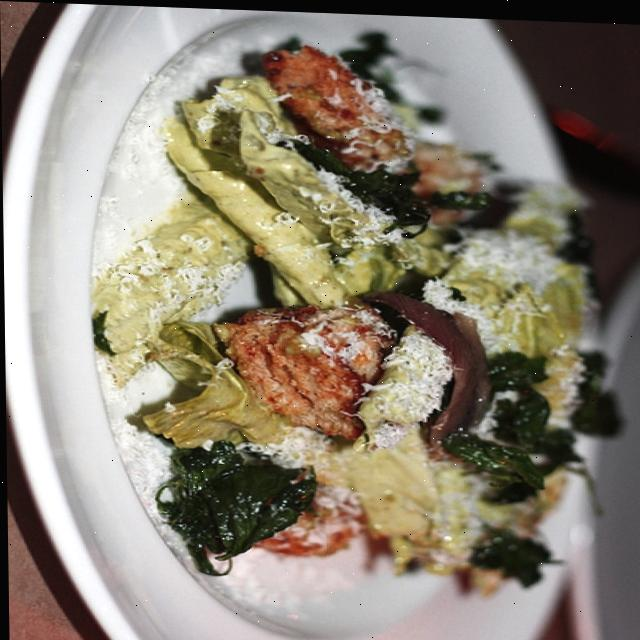蔬菜料理: (71, 76, 587, 627)
